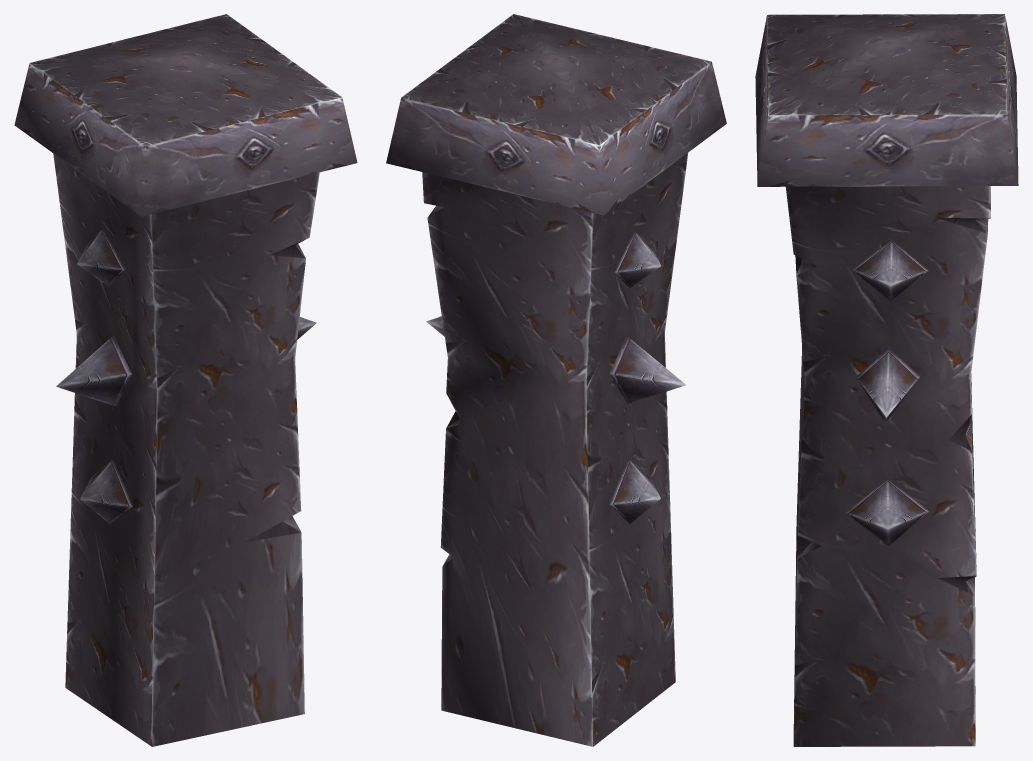
Rendered from nd_winterorc_wallcolumn_set0.obj.
The picture shows the model from 3 angles, left to right: view 1: azimuth 30°, elevation 25°; view 2: azimuth 150°, elevation 25°; view 3: azimuth 270°, elevation 25°; orthographic projection. The views are drawn at different scales.
Parts seen in each view (by area): view 1: column0, column1; view 2: column0, column1; view 3: column0, column1.
Part boxes in pixels (x1,y1,x2,y2): column0: (30, 14, 341, 746); column1: (14, 63, 357, 523); column0: (401, 14, 711, 746); column1: (386, 62, 726, 523); column0: (767, 14, 1006, 746); column1: (755, 14, 1018, 545).
Size of the model in its own units: 16.83 by 39.44 by 14.1.
Materials: 5 (5 with a texture image).
